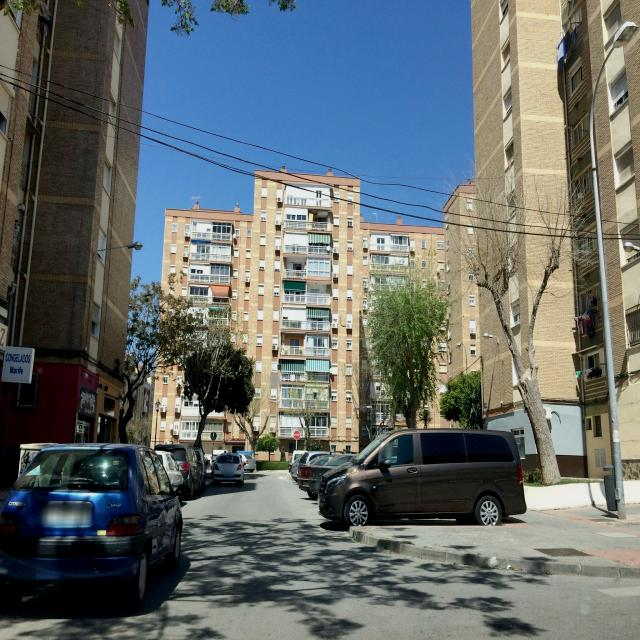car: (0, 442, 183, 611), (318, 427, 527, 528), (299, 452, 360, 500), (152, 443, 202, 498), (150, 449, 188, 503), (296, 450, 334, 485), (212, 452, 244, 486), (192, 446, 208, 487), (289, 450, 307, 480), (236, 450, 257, 473)
